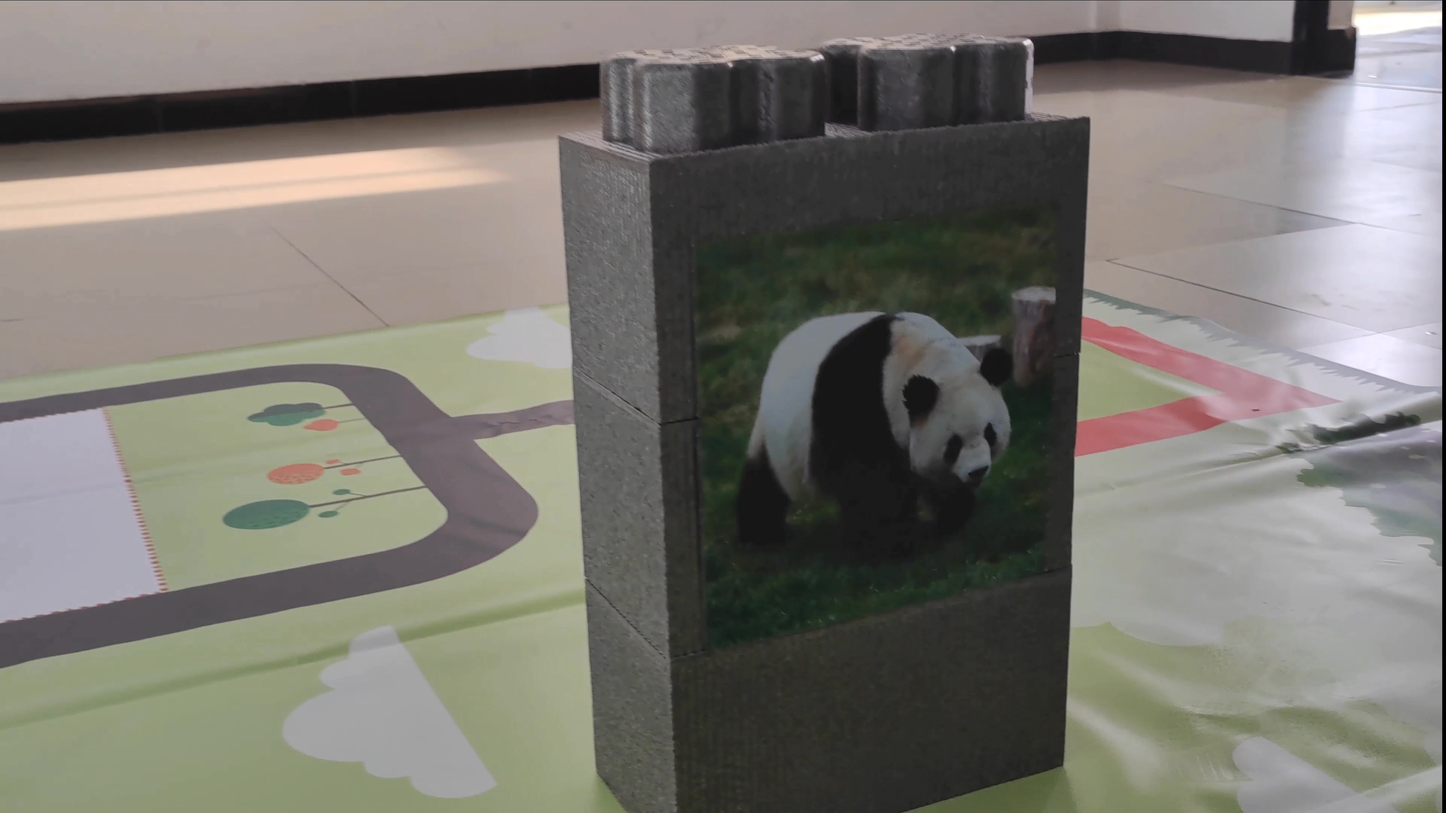panda: (700, 278, 1028, 561)
